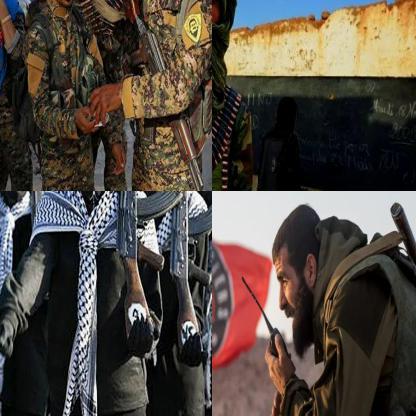rifle: (129, 1, 211, 190), (114, 191, 183, 338), (171, 191, 211, 339), (18, 191, 51, 221)
